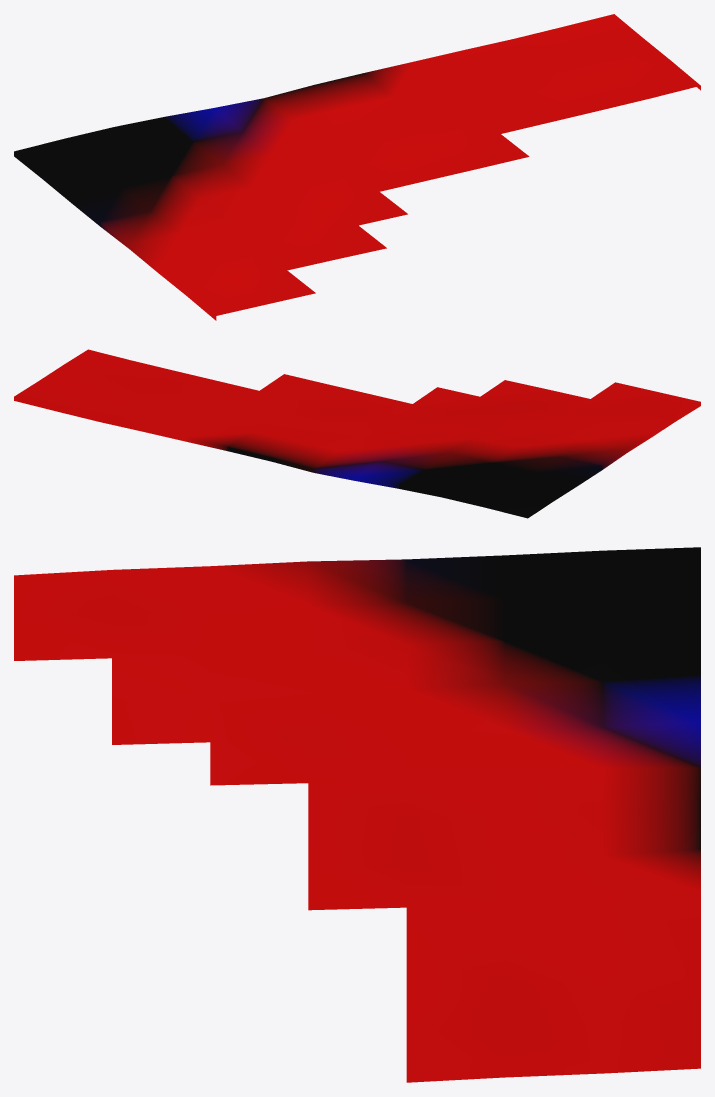
Rendered from coast_21_8.glb.
The picture shows the model from 3 angles, top to bottom: view 1: azimuth 30°, elevation 25°; view 2: azimuth 150°, elevation 25°; view 3: azimuth 270°, elevation 25°; orthographic projection. The views are drawn at different scales.
Visible parts, largest first — view 1: terrain; view 2: terrain; view 3: terrain.
Part boxes in pixels (x1=…): terrain: x1=14, y1=14, x2=700, y2=320; terrain: x1=14, y1=349, x2=700, y2=518; terrain: x1=14, y1=547, x2=700, y2=1082.
Size of the model in its own units: 192 by 6.94 by 112.
